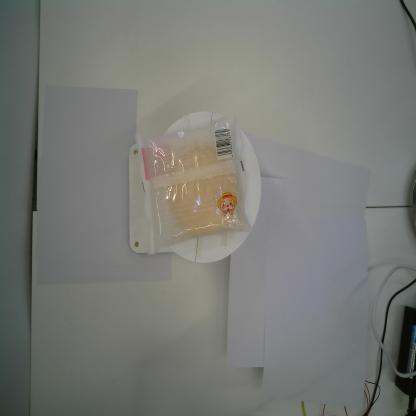Dessert: (134, 112, 253, 256)
